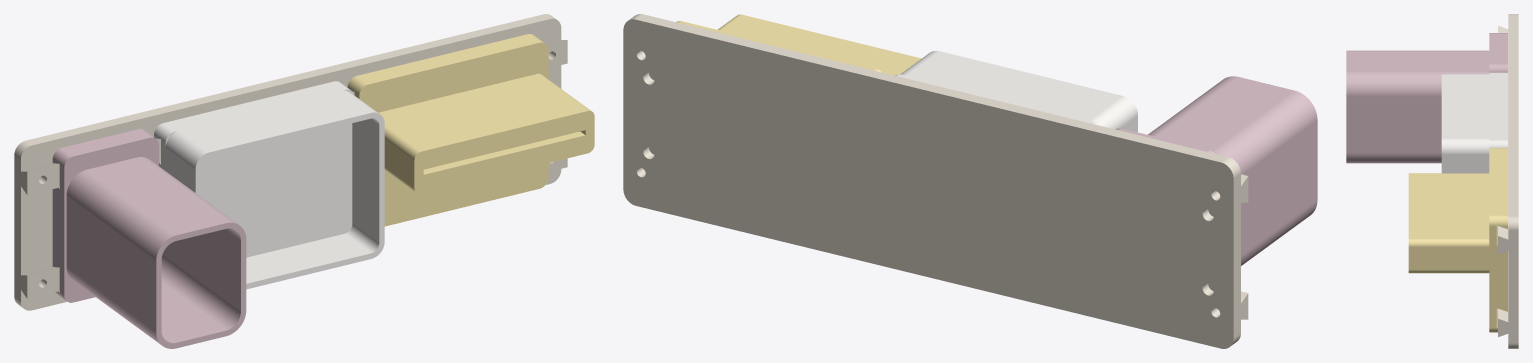
Rendered from desk-rail-set.glb.
3 views of the same model, side by side, from view 1: azimuth 30°, elevation 25°; view 2: azimuth 150°, elevation 25°; view 3: azimuth 270°, elevation 25° (orthographic). The views are drawn at different scales.
Parts seen in each view (by area): view 1: rail-catch-tray__3, rail-pen-cup__2, rail-note-slot__4, rail-240__1; view 2: rail-240__1, rail-pen-cup__2, rail-catch-tray__3, rail-note-slot__4; view 3: rail-pen-cup__2, rail-note-slot__4, rail-catch-tray__3, rail-240__1.
Part boxes in pixels (left/top/right/bottom): rail-catch-tray__3: left=154, top=81, right=384, bottom=289; rail-pen-cup__2: left=52, top=129, right=246, bottom=348; rail-note-slot__4: left=347, top=34, right=594, bottom=226; rail-240__1: left=14, top=14, right=567, bottom=310; rail-240__1: left=623, top=14, right=1248, bottom=348; rail-pen-cup__2: left=1116, top=76, right=1317, bottom=265; rail-catch-tray__3: left=895, top=50, right=1137, bottom=132; rail-note-slot__4: left=676, top=14, right=921, bottom=75; rail-pen-cup__2: left=1346, top=33, right=1507, bottom=163; rail-note-slot__4: left=1408, top=148, right=1507, bottom=332; rail-catch-tray__3: left=1441, top=72, right=1507, bottom=173; rail-240__1: left=1498, top=14, right=1518, bottom=348.
Size of the model in its own units: 0.24 by 0.07 by 0.0831.
